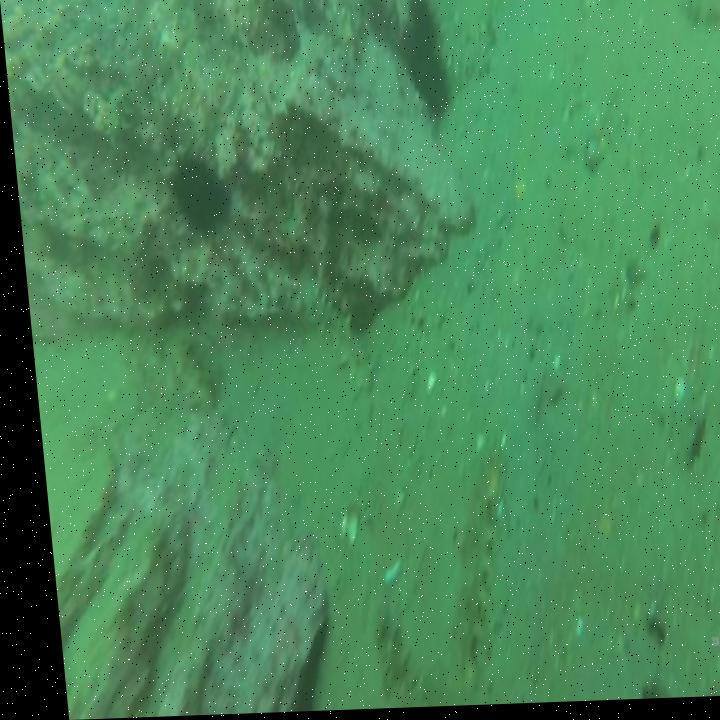echinus: (154, 139, 234, 246), (393, 0, 457, 126)
holothurian: (427, 445, 511, 678), (153, 332, 216, 420), (317, 305, 373, 400)
